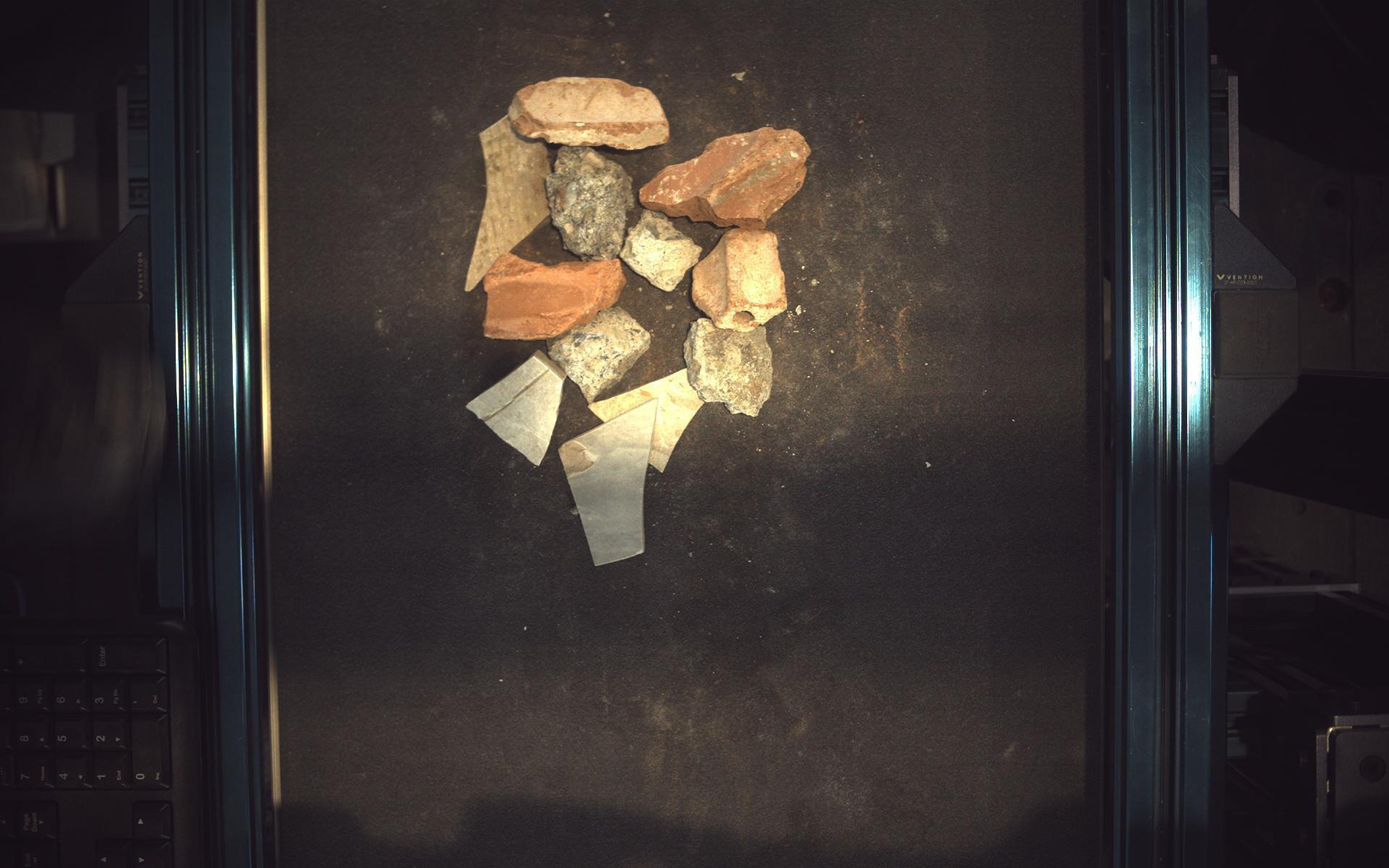brick: (640, 126, 812, 229), (484, 252, 626, 339), (509, 75, 670, 149), (692, 228, 789, 331)
concrete: (546, 145, 635, 260), (548, 305, 651, 403), (684, 318, 773, 417), (621, 209, 702, 291)
tile: (559, 399, 658, 566), (465, 114, 551, 291), (590, 369, 705, 472), (467, 350, 566, 464)
